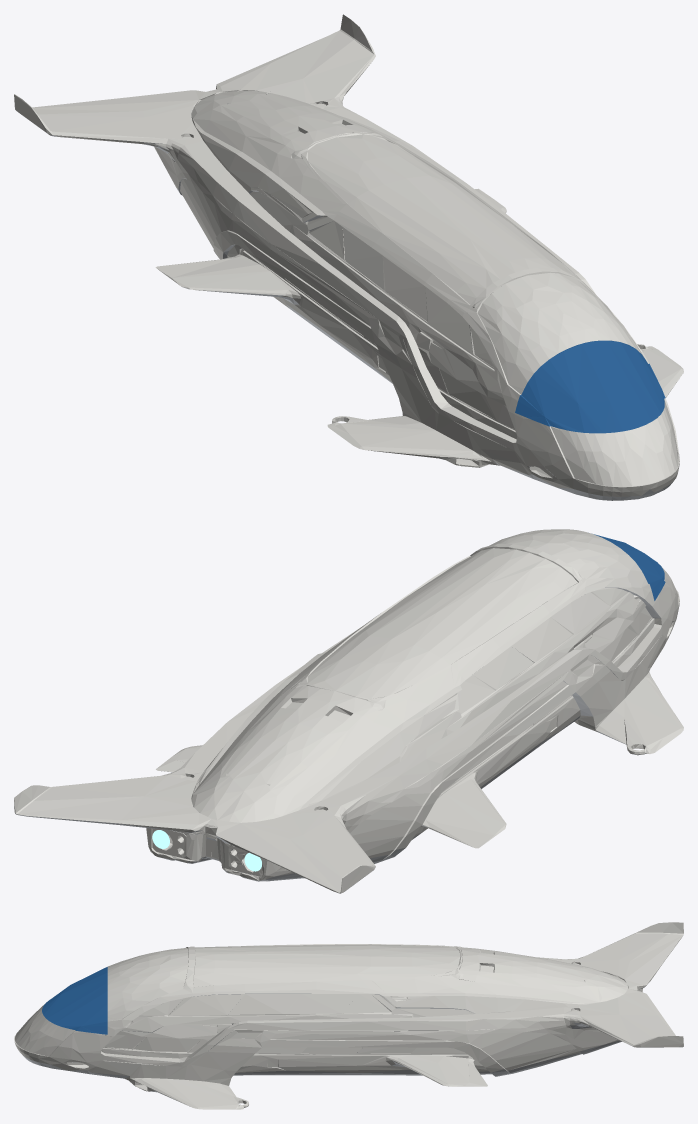
Rendered from dolphin.glb.
3 views of the same model, one above another, from view 1: azimuth 30°, elevation 25°; view 2: azimuth 150°, elevation 25°; view 3: azimuth 270°, elevation 25° (orthographic). The views are drawn at different scales.
Parts seen in each view (by area): view 1: dolphin; view 2: dolphin; view 3: dolphin.
Boxes of the visible parts, x1=… form: dolphin: x1=14, y1=14, x2=683, y2=500; dolphin: x1=14, y1=529, x2=683, y2=893; dolphin: x1=14, y1=922, x2=683, y2=1109.
Bounding box in the file's own units: 20.83 × 8.83 × 51.88.
